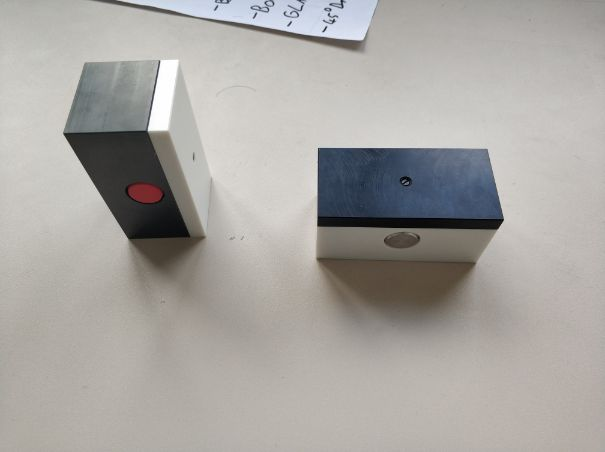black+white+silver: (315, 146, 507, 265)
white+black+red: (60, 58, 214, 241)
